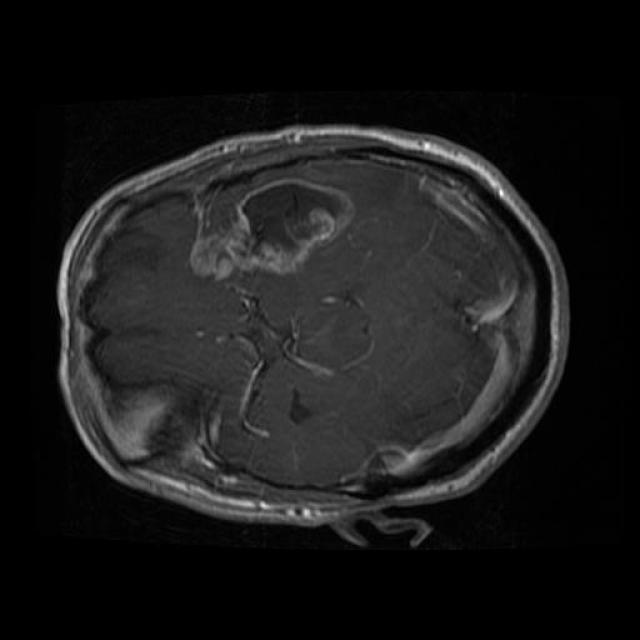Glioma: (198, 181, 353, 278)
